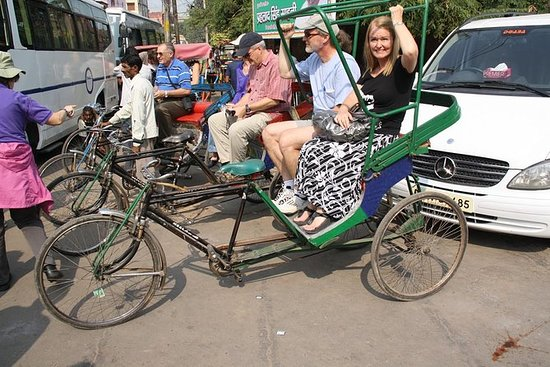handle bar: (134, 156, 194, 205), (104, 125, 148, 159), (87, 100, 132, 115)
seat: (160, 127, 199, 153), (214, 157, 267, 176)
wheel: (31, 210, 170, 333), (366, 189, 469, 304), (38, 170, 128, 258), (36, 138, 111, 228), (329, 179, 398, 255), (56, 125, 121, 178)
